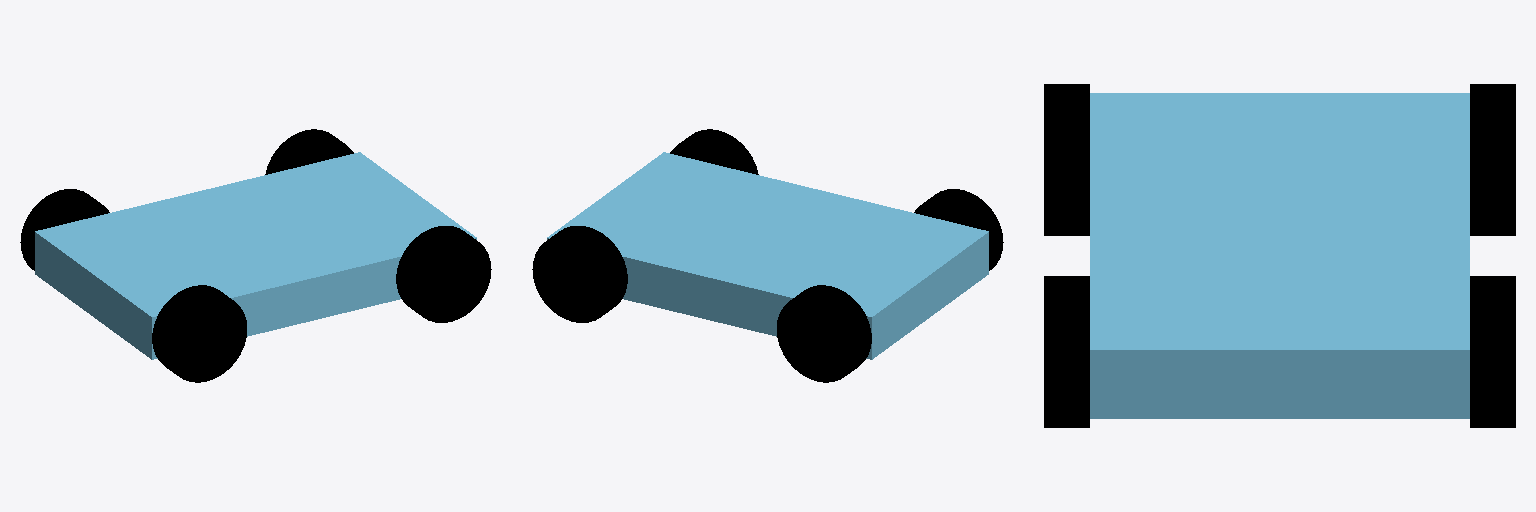
robot.urdf — automotive_chassis:
<?xml version="1.0"?>
<robot name="automotive_chassis">
  <material name="skyblue">
    <color rgba="0.529 0.808 0.922 1" />
  </material>
  <material name="black">
    <color rgba="0 0 0 1" />
  </material>

  <link name="base_link">
    <visual>
      <origin xyz="0 0 0" rpy="0 0 0" />
      <geometry>
        <box size="0.4 0.25 0.05" />
      </geometry>
      <material name="skyblue" />
    </visual>
    <inertial>
      <origin xyz="0 0 0" rpy="0 0 0" />
      <mass value="2.0" />
      <inertia ixx="0.01083" ixy="0" ixz="0" iyy="0.02708" iyz="0" izz="0.03708" />
    </inertial>
    <collision>
      <origin xyz="0 0 0" rpy="0 0 0" />
      <geometry>
        <box size="0.4 0.25 0.05" />
      </geometry>
    </collision>
  </link>

  <link name="front_left_wheel_link">
    <visual>
      <origin xyz="0 0 0" rpy="0 0 0" />
      <geometry>
        <cylinder radius="0.05" length="0.03" />
      </geometry>
      <material name="black" />
    </visual>
    <inertial>
      <origin xyz="0 0 0" rpy="0 0 0" />
      <mass value="0.2" />
      <inertia ixx="0.00014" ixy="0" ixz="0" iyy="0.00014" iyz="0" izz="0.00025" />
    </inertial>
    <collision>
      <origin xyz="0 0 0" rpy="0 0 0" />
      <geometry>
        <cylinder radius="0.05" length="0.03" />
      </geometry>
    </collision>
  </link>
  <joint name="front_left_wheel_joint" type="continuous">
    <parent link="base_link" />
    <child link="front_left_wheel_link" />
    <origin xyz="0.15 0.14 0" rpy="-1.5708 0 0" />
    <axis xyz="0 0 1" />
  </joint>

  <link name="front_right_wheel_link">
    <visual>
      <origin xyz="0 0 0" rpy="0 0 0" />
      <geometry>
        <cylinder radius="0.05" length="0.03" />
      </geometry>
      <material name="black" />
    </visual>
    <inertial>
      <origin xyz="0 0 0" rpy="0 0 0" />
      <mass value="0.2" />
      <inertia ixx="0.00014" ixy="0" ixz="0" iyy="0.00014" iyz="0" izz="0.00025" />
    </inertial>
    <collision>
      <origin xyz="0 0 0" rpy="0 0 0" />
      <geometry>
        <cylinder radius="0.05" length="0.03" />
      </geometry>
    </collision>
  </link>
  <joint name="front_right_wheel_joint" type="continuous">
    <parent link="base_link" />
    <child link="front_right_wheel_link" />
    <origin xyz="0.15 -0.14 0" rpy="-1.5708 0 0" />
    <axis xyz="0 0 1" />
  </joint>

  <link name="rear_left_wheel_link">
    <visual>
      <origin xyz="0 0 0" rpy="0 0 0" />
      <geometry>
        <cylinder radius="0.05" length="0.03" />
      </geometry>
      <material name="black" />
    </visual>
    <inertial>
      <origin xyz="0 0 0" rpy="0 0 0" />
      <mass value="0.2" />
      <inertia ixx="0.00014" ixy="0" ixz="0" iyy="0.00014" iyz="0" izz="0.00025" />
    </inertial>
    <collision>
      <origin xyz="0 0 0" rpy="0 0 0" />
      <geometry>
        <cylinder radius="0.05" length="0.03" />
      </geometry>
    </collision>
  </link>
  <joint name="rear_left_wheel_joint" type="continuous">
    <parent link="base_link" />
    <child link="rear_left_wheel_link" />
    <origin xyz="-0.15 0.14 0" rpy="-1.5708 0 0" />
    <axis xyz="0 0 1" />
  </joint>

  <link name="rear_right_wheel_link">
    <visual>
      <origin xyz="0 0 0" rpy="0 0 0" />
      <geometry>
        <cylinder radius="0.05" length="0.03" />
      </geometry>
      <material name="black" />
    </visual>
    <inertial>
      <origin xyz="0 0 0" rpy="0 0 0" />
      <mass value="0.2" />
      <inertia ixx="0.00014" ixy="0" ixz="0" iyy="0.00014" iyz="0" izz="0.00025" />
    </inertial>
    <collision>
      <origin xyz="0 0 0" rpy="0 0 0" />
      <geometry>
        <cylinder radius="0.05" length="0.03" />
      </geometry>
    </collision>
  </link>
  <joint name="rear_right_wheel_joint" type="continuous">
    <parent link="base_link" />
    <child link="rear_right_wheel_link" />
    <origin xyz="-0.15 -0.14 0" rpy="-1.5708 0 0" />
    <axis xyz="0 0 1" />
  </joint>
</robot>

--- Render facts (derived) ---
The picture shows the robot from 3 angles, left to right: view 1: azimuth 30°, elevation 25°; view 2: azimuth 150°, elevation 25°; view 3: azimuth 270°, elevation 25°; orthographic projection.
Model automotive_chassis with 5 links and 4 joints (4 continuous), rooted at base_link, posed all joints at 0.
Links seen in each view (by area): view 1: base_link, front_right_wheel_link, rear_right_wheel_link, rear_left_wheel_link, front_left_wheel_link; view 2: base_link, front_left_wheel_link, rear_left_wheel_link, rear_right_wheel_link, front_right_wheel_link; view 3: base_link, front_left_wheel_link, front_right_wheel_link, rear_left_wheel_link, rear_right_wheel_link.
Link boxes in pixels (x1=…): base_link: x1=35, y1=152, x2=476, y2=359; front_right_wheel_link: x1=396, y1=226, x2=491, y2=322; rear_right_wheel_link: x1=152, y1=285, x2=246, y2=382; rear_left_wheel_link: x1=20, y1=189, x2=109, y2=270; front_left_wheel_link: x1=265, y1=129, x2=353, y2=174; base_link: x1=547, y1=152, x2=988, y2=359; front_left_wheel_link: x1=532, y1=226, x2=627, y2=322; rear_left_wheel_link: x1=777, y1=285, x2=871, y2=382; rear_right_wheel_link: x1=914, y1=189, x2=1003, y2=270; front_right_wheel_link: x1=670, y1=129, x2=758, y2=174; base_link: x1=1090, y1=93, x2=1469, y2=418; front_left_wheel_link: x1=1470, y1=276, x2=1515, y2=427; front_right_wheel_link: x1=1044, y1=276, x2=1089, y2=427; rear_left_wheel_link: x1=1470, y1=84, x2=1515, y2=235; rear_right_wheel_link: x1=1044, y1=84, x2=1089, y2=235.
Bounding box of the posed robot: 0.4 × 0.31 × 0.1 m (x, y, z).
Geometry: primitives only (box / cylinder / sphere), no mesh files.
